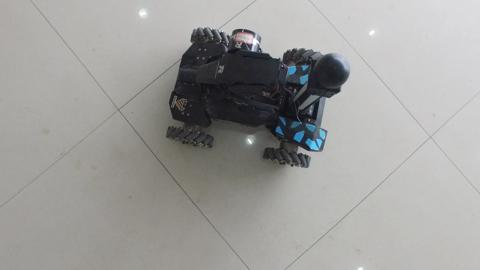chariot: (145, 23, 341, 176)
